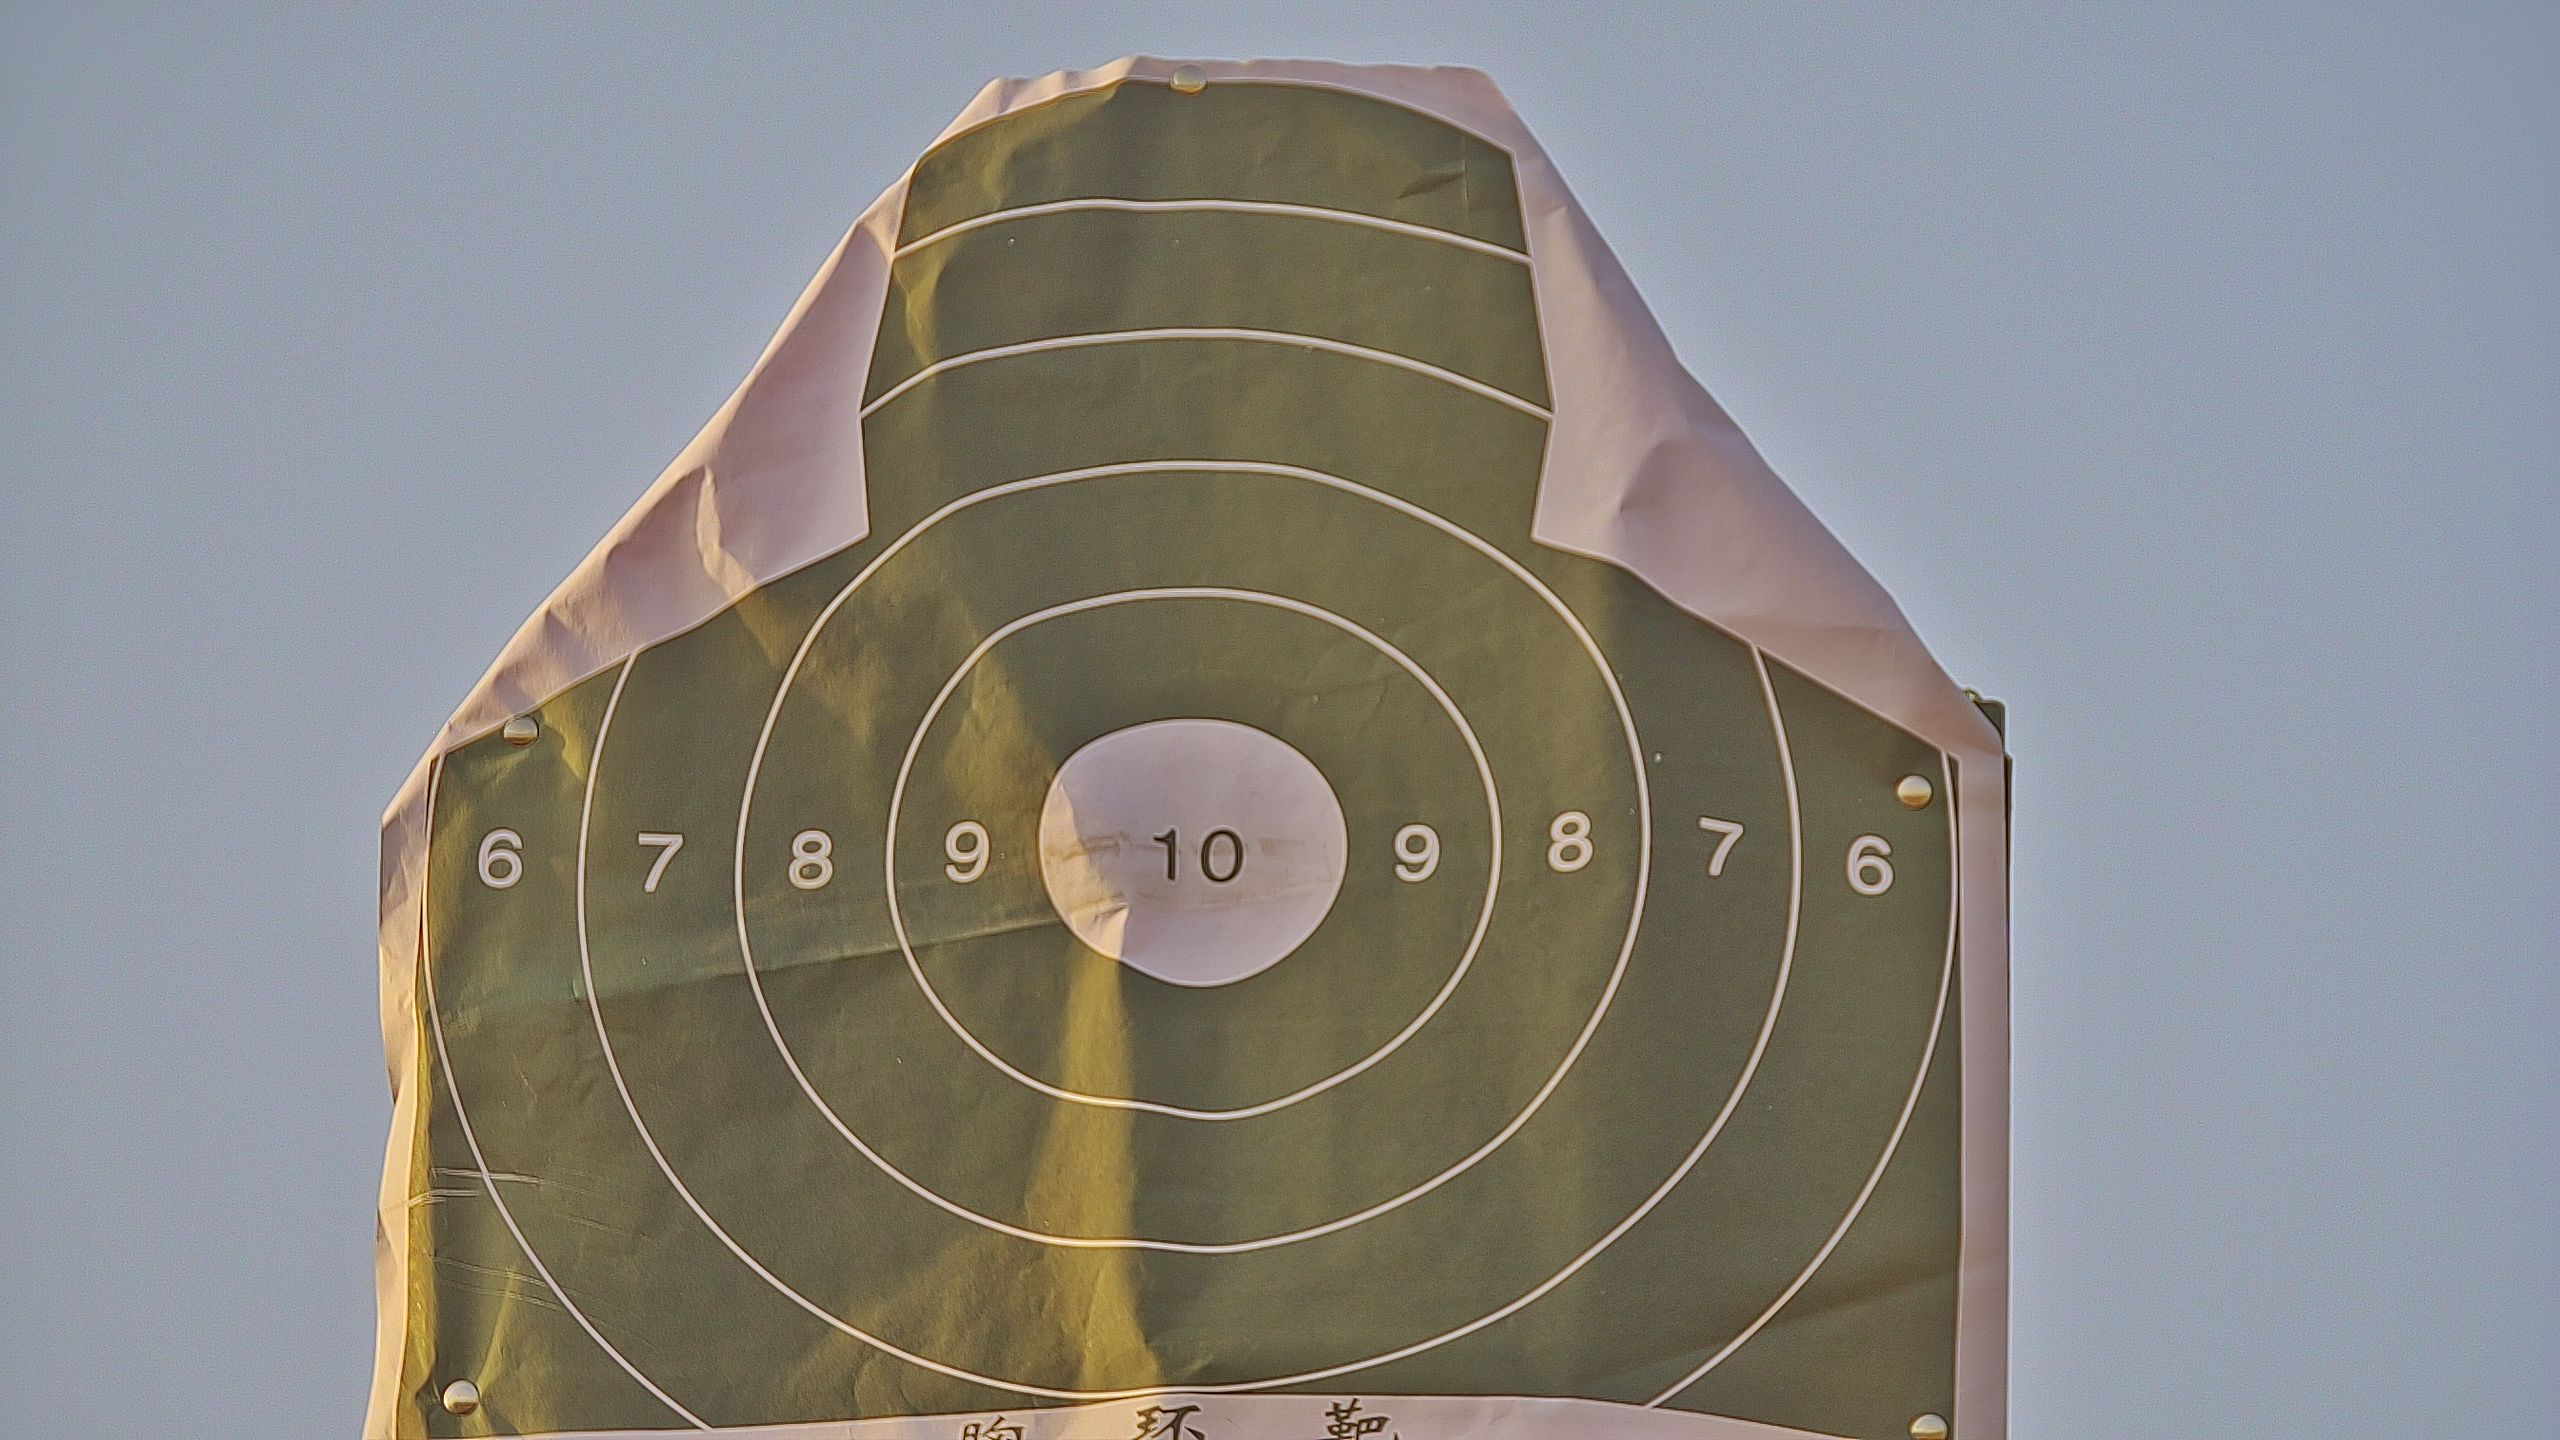kernel: (1187, 849, 1190, 855)
target: (404, 88, 1966, 1440)
ten: (1037, 716, 1350, 990)
